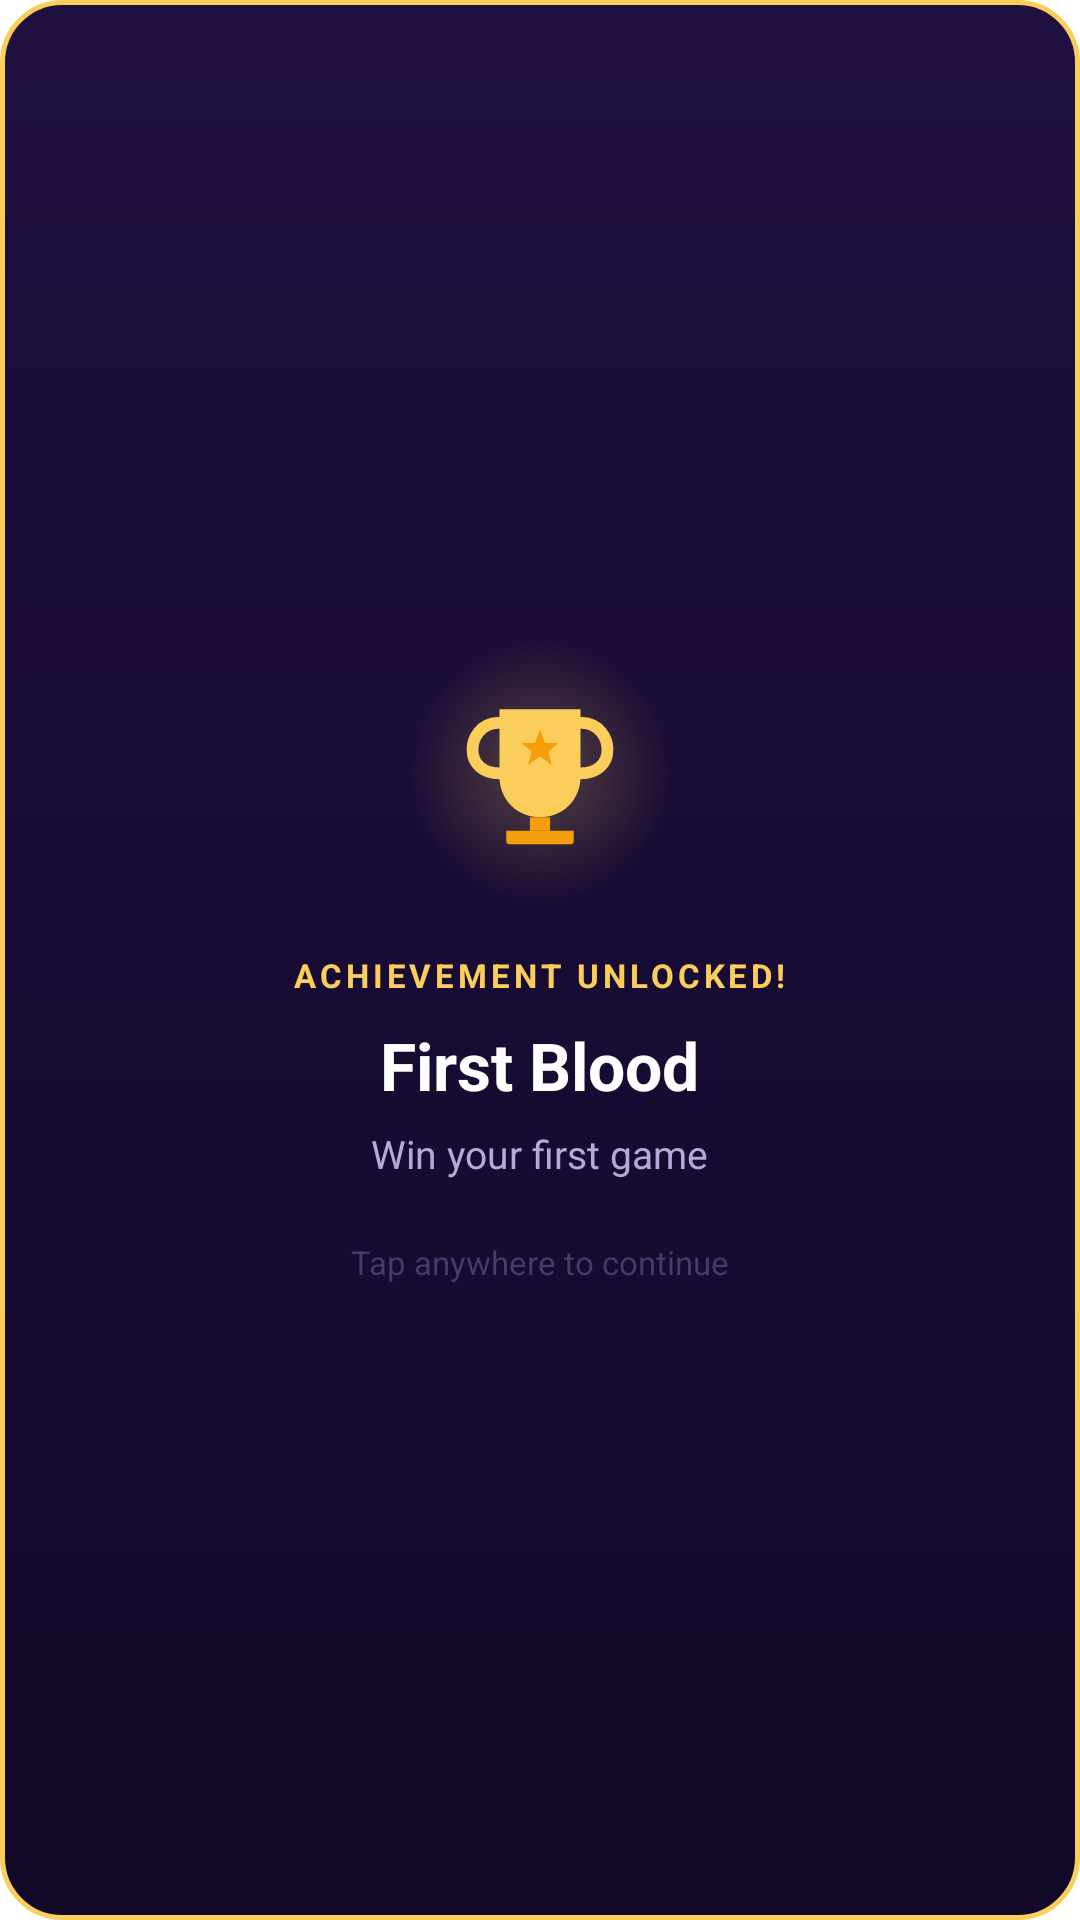

Icon click points for this 1080×1920 phone screenshot, format [x,y]:
ach trophy: [540,777]
